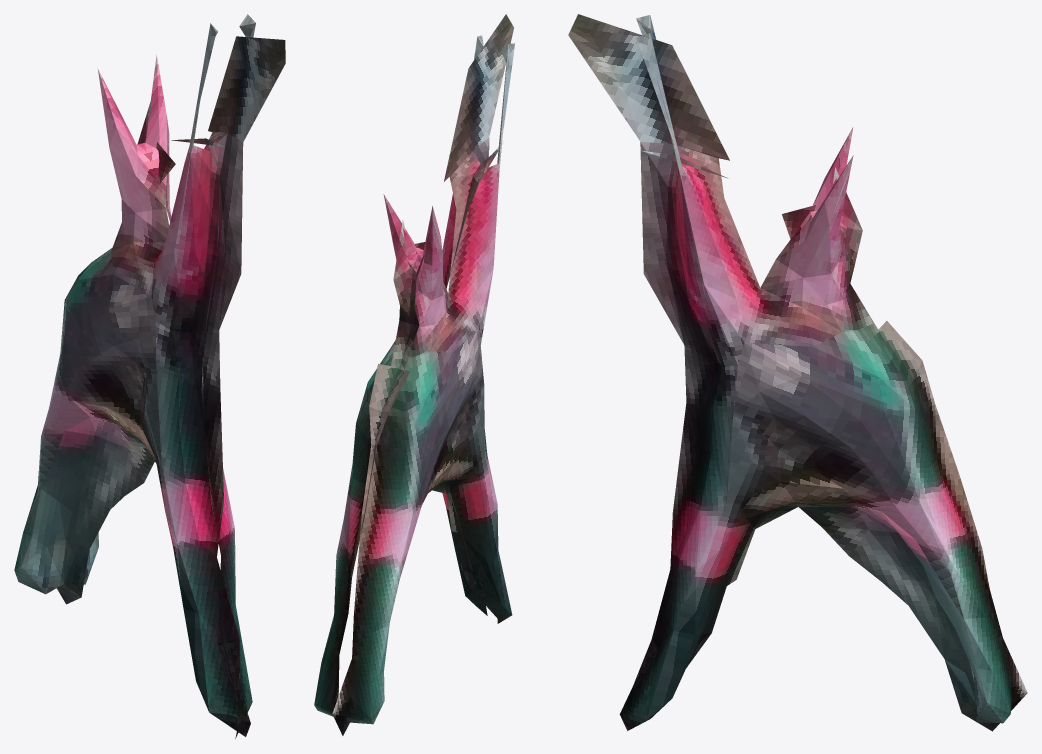
File: 1024-scissors.glb
3 renders of one model, left to right at view 1: azimuth 30°, elevation 25°; view 2: azimuth 150°, elevation 25°; view 3: azimuth 270°, elevation 25°, orthographic. The views are drawn at different scales.
Visible parts, largest first — view 1: Mesh_0; view 2: Mesh_0; view 3: Mesh_0.
Part boxes in pixels (x1,y1,x2,y2): Mesh_0: (14, 14, 285, 738); Mesh_0: (314, 14, 514, 735); Mesh_0: (568, 14, 1027, 731).
Bounding box in the file's own units: 0.0323 × 0.2658 × 0.1555.
Materials: 1 (1 with a texture image).
